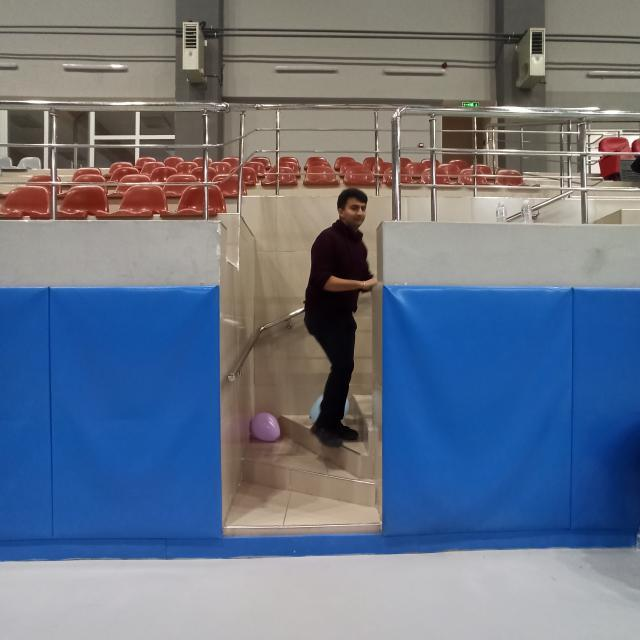balloon: (248, 413, 280, 442)
